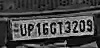0: (78, 20, 87, 33)
1: (34, 22, 42, 37)
2: (72, 19, 79, 36)
3: (64, 19, 72, 35)
6: (43, 22, 49, 36)
9: (86, 19, 92, 35)
G: (48, 19, 57, 36)
P: (25, 21, 34, 39)
T: (56, 21, 65, 38)
U: (18, 22, 28, 38)
